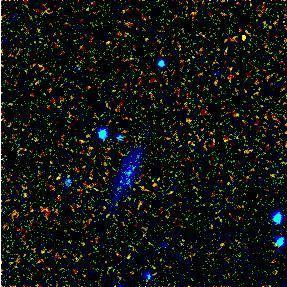star: (229, 22, 259, 52)
